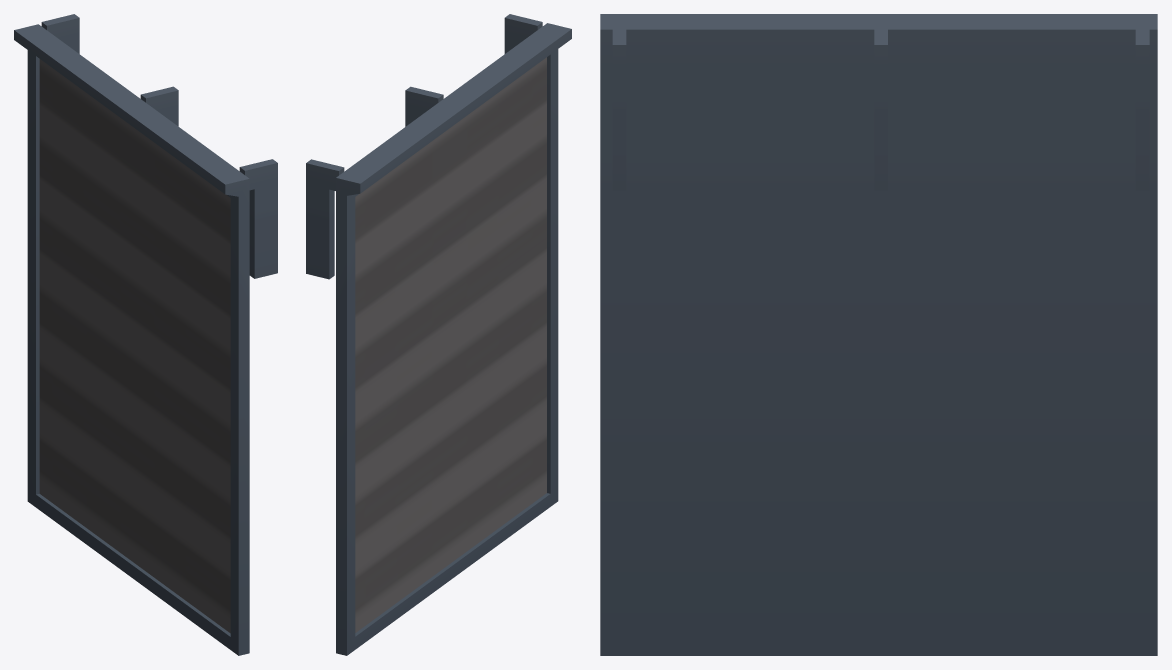
Rendered from SignProp_2_A_2.fbx.
3 renders of one model, left to right at view 1: azimuth 30°, elevation 25°; view 2: azimuth 150°, elevation 25°; view 3: azimuth 270°, elevation 25°, orthographic. The views are drawn at different scales.
Parts seen in each view (by area): view 1: SignProp_2_A_2; view 2: SignProp_2_A_2; view 3: SignProp_2_A_2.
Part boxes in pixels (left/top/right/bottom): SignProp_2_A_2: left=14, top=14, right=277, bottom=655; SignProp_2_A_2: left=306, top=14, right=571, bottom=655; SignProp_2_A_2: left=600, top=14, right=1157, bottom=655.
Size of the model in its own units: 14.49 by 116 by 92.55.
